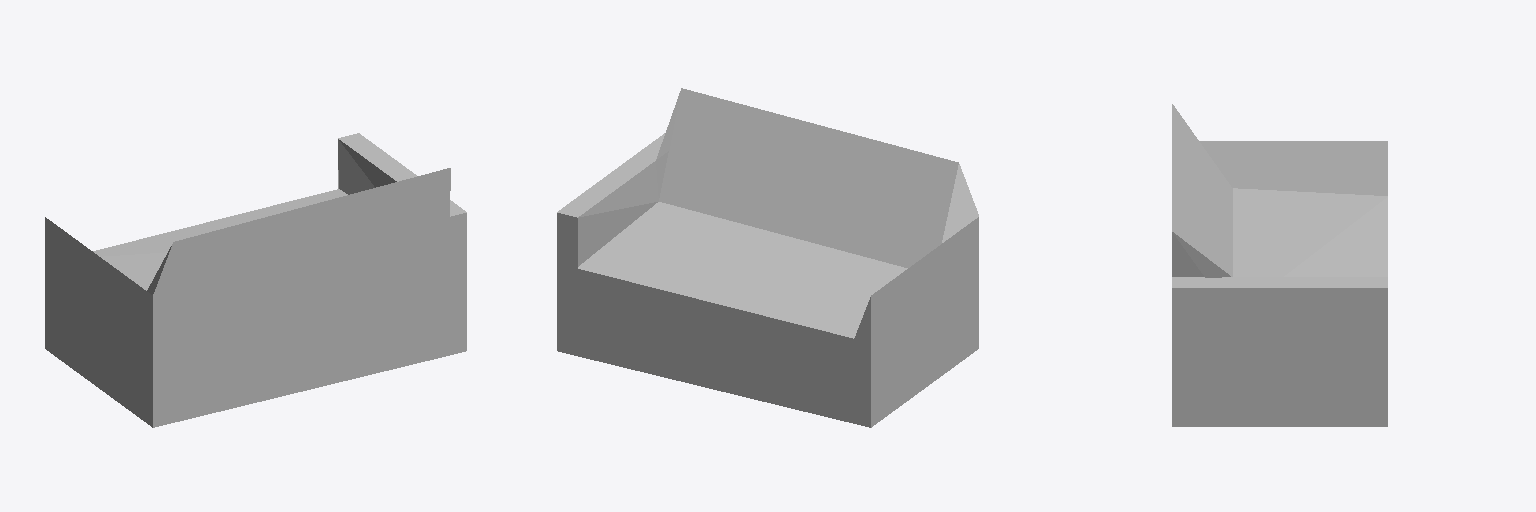
File: couch_convex.obj
3 renders of one model, left to right at view 1: azimuth 30°, elevation 25°; view 2: azimuth 150°, elevation 25°; view 3: azimuth 270°, elevation 25°, orthographic.
Visible parts, largest first — view 1: Cube; view 2: Cube; view 3: Cube.
Part boxes in pixels (x1,y1,x2,y2): Cube: (45,133,466,427); Cube: (557,88,978,427); Cube: (1172,104,1387,426).
Size of the model in its own units: 0.987 by 0.5632 by 0.5898.